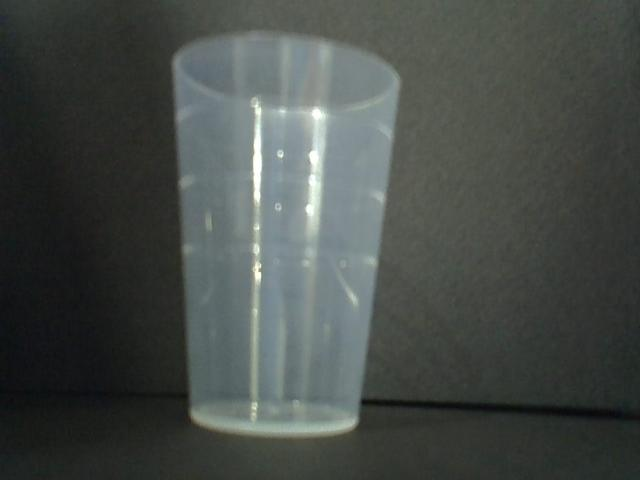cup: (169, 29, 405, 440)
